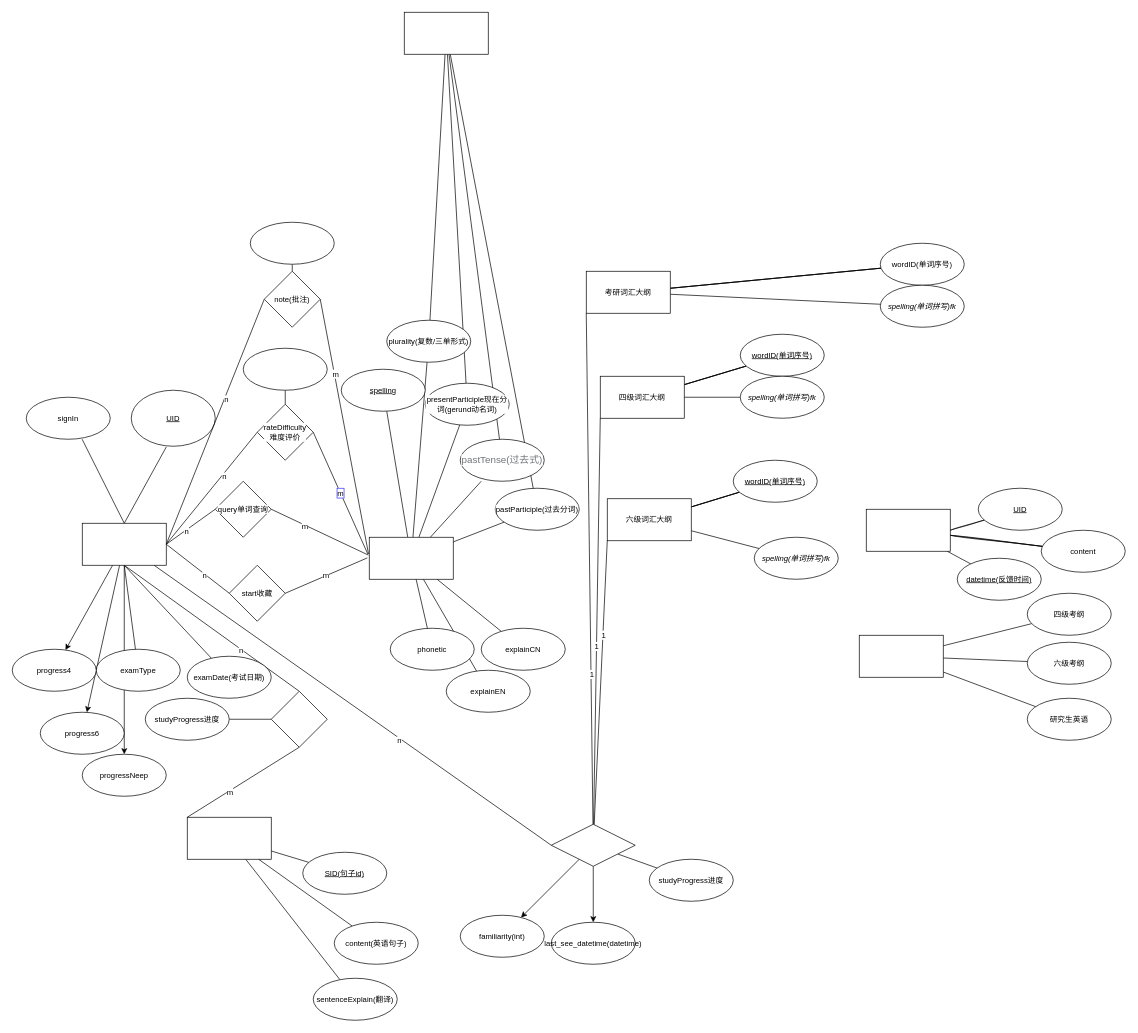
Image size: 1138x1033. Some labels were removed from this diagram. The shapes that lost their labels are listed below. From the top down, each one's centre as x and y in pixels, then its label:
[446,33]: wordForms(词形变化)
[292,243]: 批注时间
[285,369]: 难度打分(星级)
[124,544]: 用户
[908,530]: 反馈
[411,558]: 单词
[901,656]: 考纲指南
[299,719]: 长句学习
[229,838]: 长难句语料库
[593,845]: 学习状况
